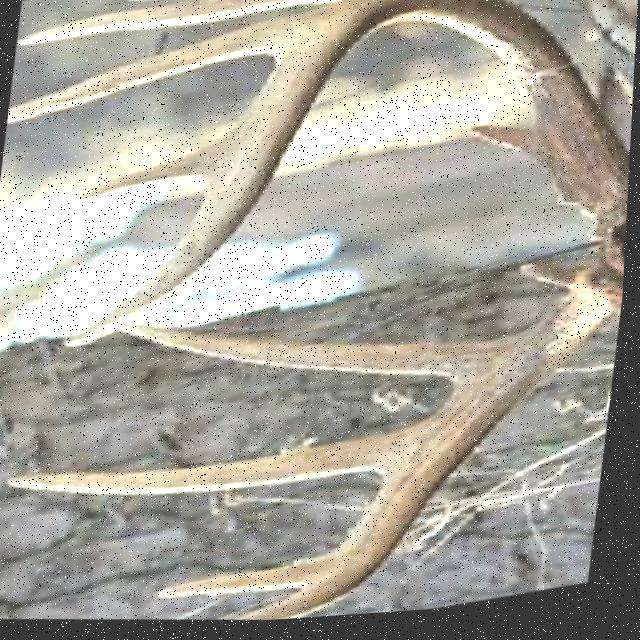L-F: (63, 0, 632, 347)
L-G1: (469, 130, 545, 169)
L-G3: (17, 0, 348, 45)
L-G4: (8, 14, 313, 123)
L-G5: (76, 143, 221, 202)
R-G1: (520, 268, 600, 297)
R-G2: (123, 326, 513, 389)
R-G3: (7, 433, 408, 496)
R-G4: (159, 563, 333, 600)
